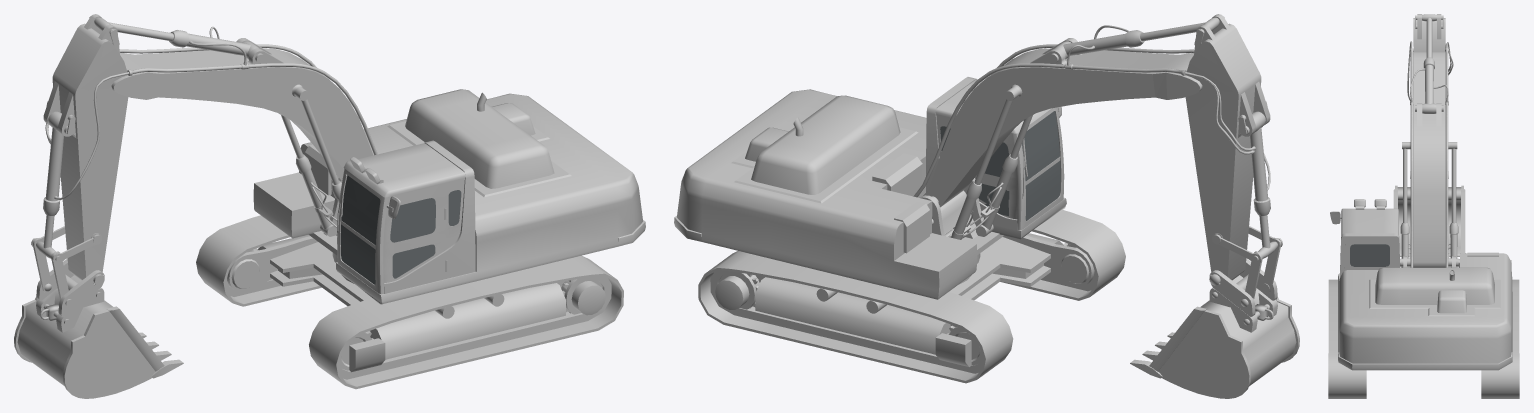
Rendered from HydraulicExcavator_LOD0.FBX.
The picture shows the model from 3 angles, left to right: view 1: azimuth 30°, elevation 25°; view 2: azimuth 150°, elevation 25°; view 3: azimuth 270°, elevation 25°; orthographic projection. The views are drawn at different scales.
Visible parts, largest first — view 1: Arm, Base, Track, Glass; view 2: Base, Arm, Track, Glass; view 3: Base, Arm, Track, Glass.
Part boxes in pixels (bbox=[...]): Arm: bbox=[14, 14, 475, 398]; Base: bbox=[226, 89, 645, 372]; Track: bbox=[196, 215, 623, 389]; Glass: bbox=[340, 175, 461, 284]; Base: bbox=[674, 89, 1095, 366]; Arm: bbox=[913, 14, 1299, 398]; Track: bbox=[698, 210, 1125, 383]; Glass: bbox=[940, 111, 1060, 220]; Base: bbox=[1338, 252, 1512, 370]; Arm: bbox=[1330, 14, 1465, 277]; Track: bbox=[1328, 279, 1519, 398]; Glass: bbox=[1350, 244, 1389, 266].
Bounding box in the file's own units: 12.09 × 7.53 × 5.37.
